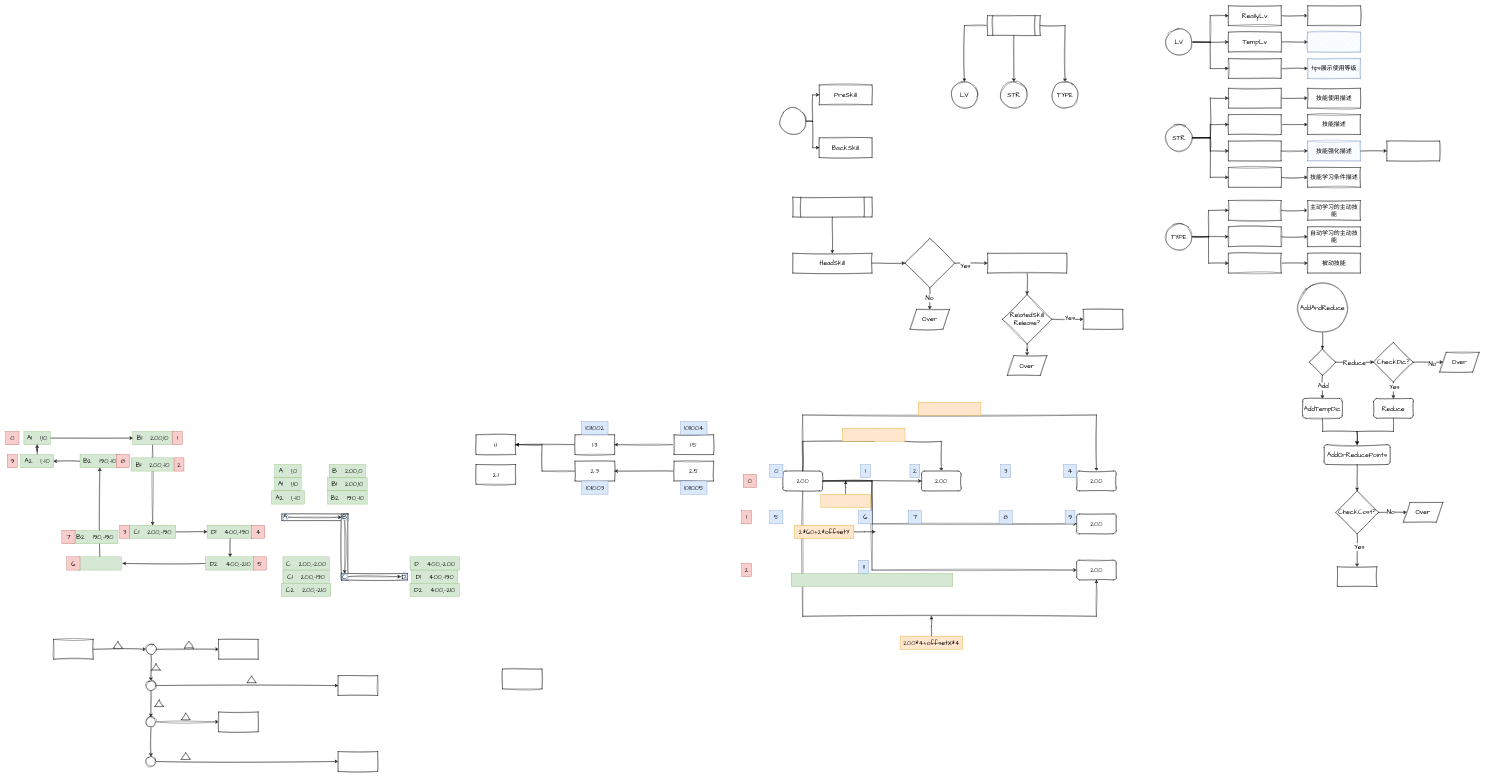
The diagram is 1485 pixels wide and 777 high, and some of its shapes have lost their labels. The box of each missing label's shape, as (x1, y1, x2, y2) in pixels:
(200*4+offsetX*4,2*60+2*offsetY,200+offsetX): (791, 573, 953, 587)
2*200+2*offsetX: (842, 428, 905, 441)
200+offsetX: (821, 494, 870, 507)
4*200+4*offsetX: (918, 402, 981, 415)
Active: (1228, 200, 1281, 220)
Add?: (1309, 349, 1336, 375)
C2 190,-210: (78, 557, 121, 570)
HeadSkill Release?: (905, 238, 955, 288)
Passive: (1228, 253, 1281, 273)
Refresh: (1337, 566, 1377, 587)
Refresh RelatedSkill: (1083, 309, 1123, 329)
Related Skill: (779, 108, 806, 134)
RelatedSkill: (987, 253, 1067, 273)
ShowLv: (1228, 58, 1281, 78)
SkillInfo: (987, 15, 1040, 35)
SkillRefreshDic: (792, 197, 872, 217)
SkillStr: (1228, 114, 1281, 134)
StaticActive: (1228, 227, 1281, 247)
StudyStr: (1228, 167, 1281, 187)
UpStr: (1228, 141, 1281, 161)
UseStr: (1228, 88, 1281, 108)
临时加点技能等级: (1307, 32, 1360, 52)
根据被动技能解锁情况，动态添加: (1386, 141, 1440, 161)
真实的技能等级和服务器一致: (1307, 5, 1360, 26)
